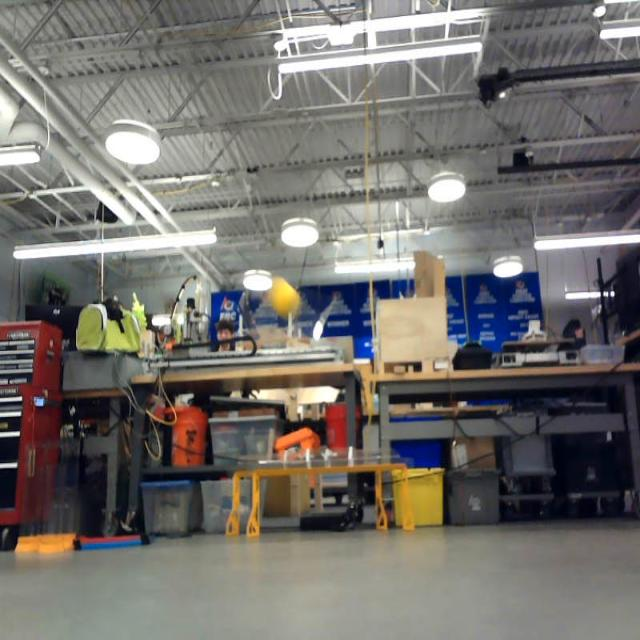Fuel: (273, 283, 298, 318)
